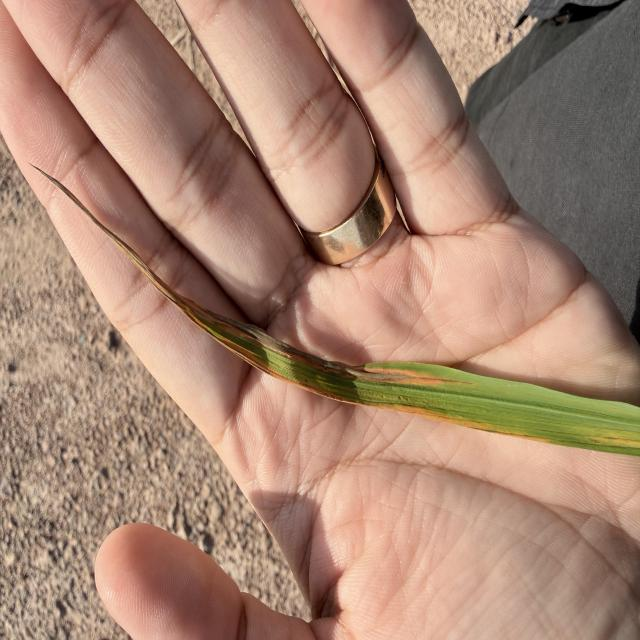Chay bia la: (27, 163, 476, 424)
